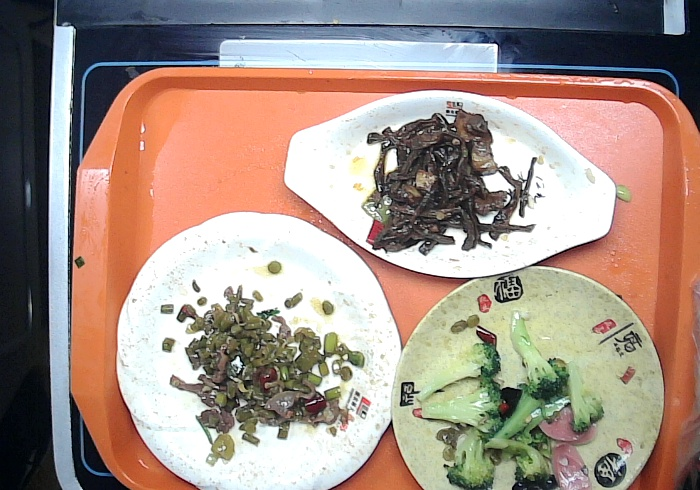NLDX-Bai_Zhe_Yuan_Pan: (110, 190, 407, 490)
NLDX-Fu_Zi_Yuan_Pan: (397, 264, 669, 490)
NLDX-Yu_Pan: (287, 90, 612, 288)
